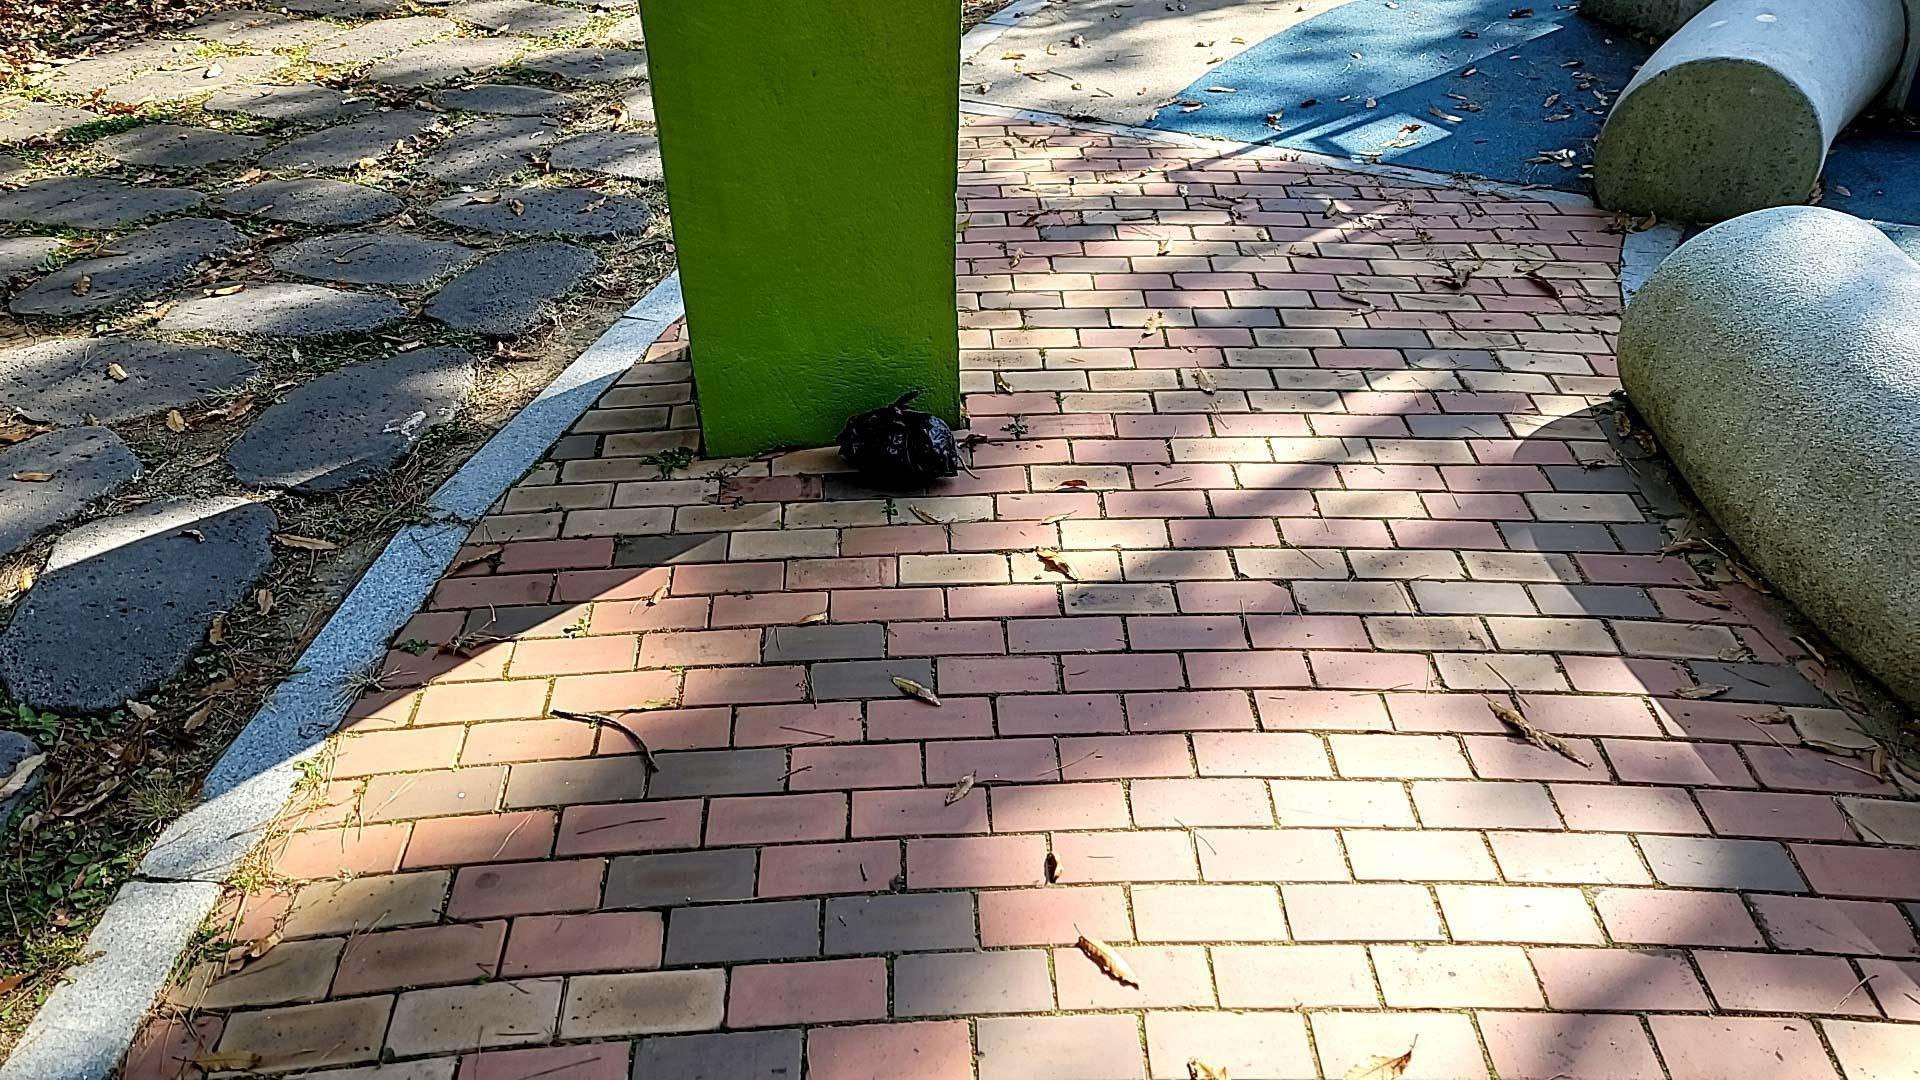black_bag: (822, 377, 965, 491)
